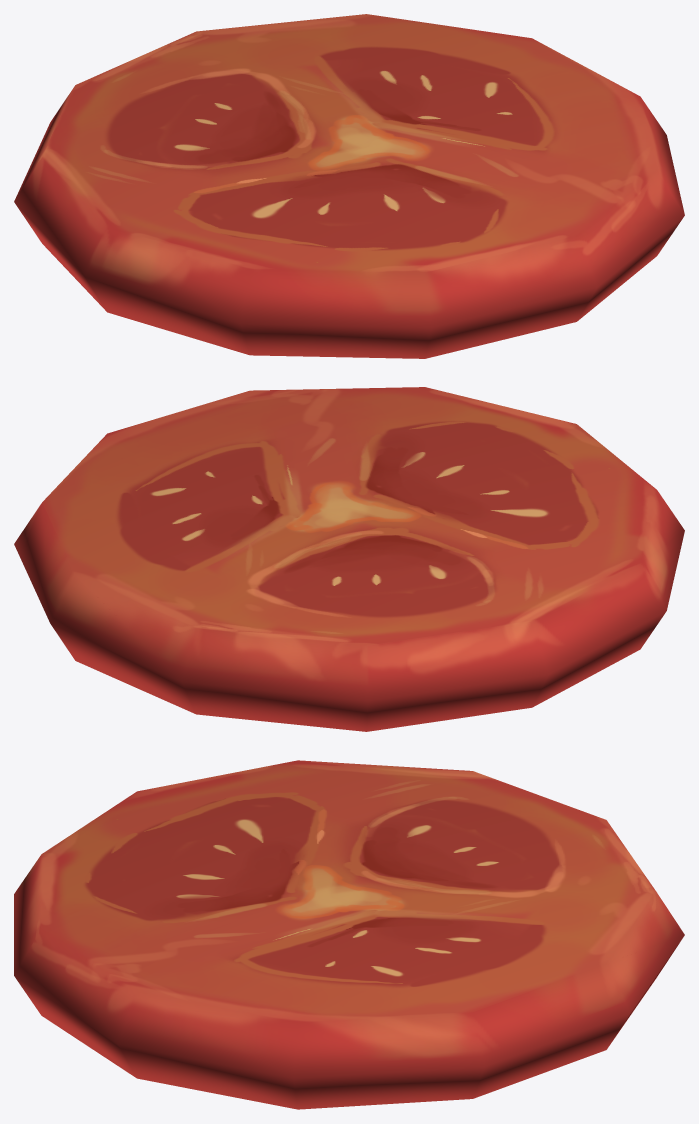
The model's file is Tomate.fbx.
The picture shows the model from 3 angles, top to bottom: view 1: azimuth 30°, elevation 25°; view 2: azimuth 150°, elevation 25°; view 3: azimuth 270°, elevation 25°; orthographic projection.
Parts seen in each view (by area): view 1: Cylinder; view 2: Cylinder; view 3: Cylinder.
Boxes of the visible parts, box(x1,y1,x2,y2) form: Cylinder: box(14, 14, 684, 358); Cylinder: box(14, 387, 684, 731); Cylinder: box(14, 760, 684, 1109).
Size of the model in its own units: 209 by 29.5 by 207.
1 material, 1 textured.
